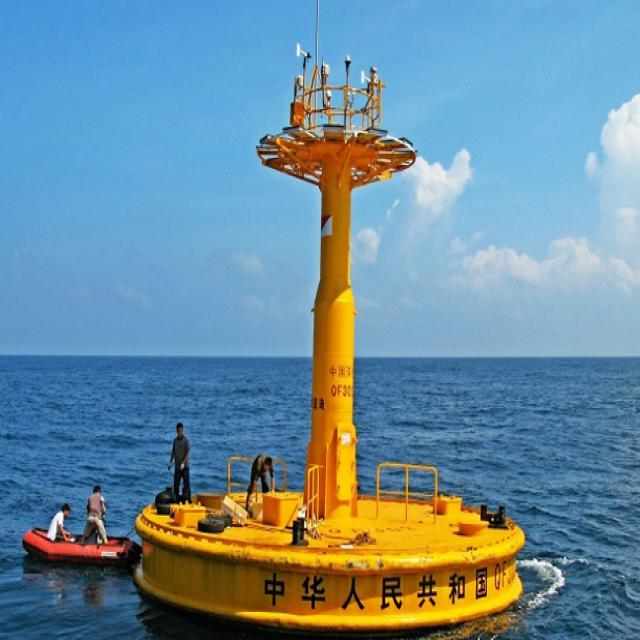buoy: (138, 46, 529, 626)
